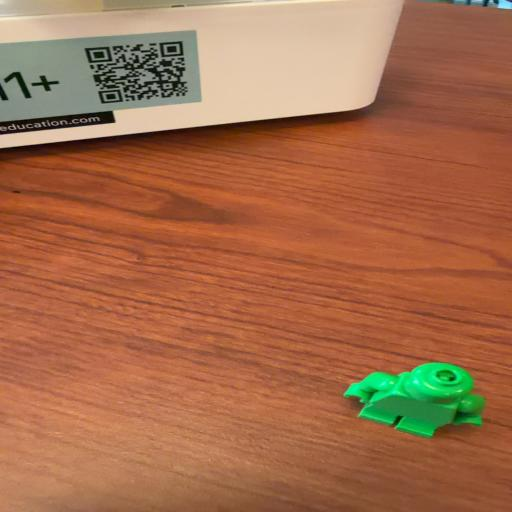UnoQ-minifig-detector: (343, 360, 486, 438)
